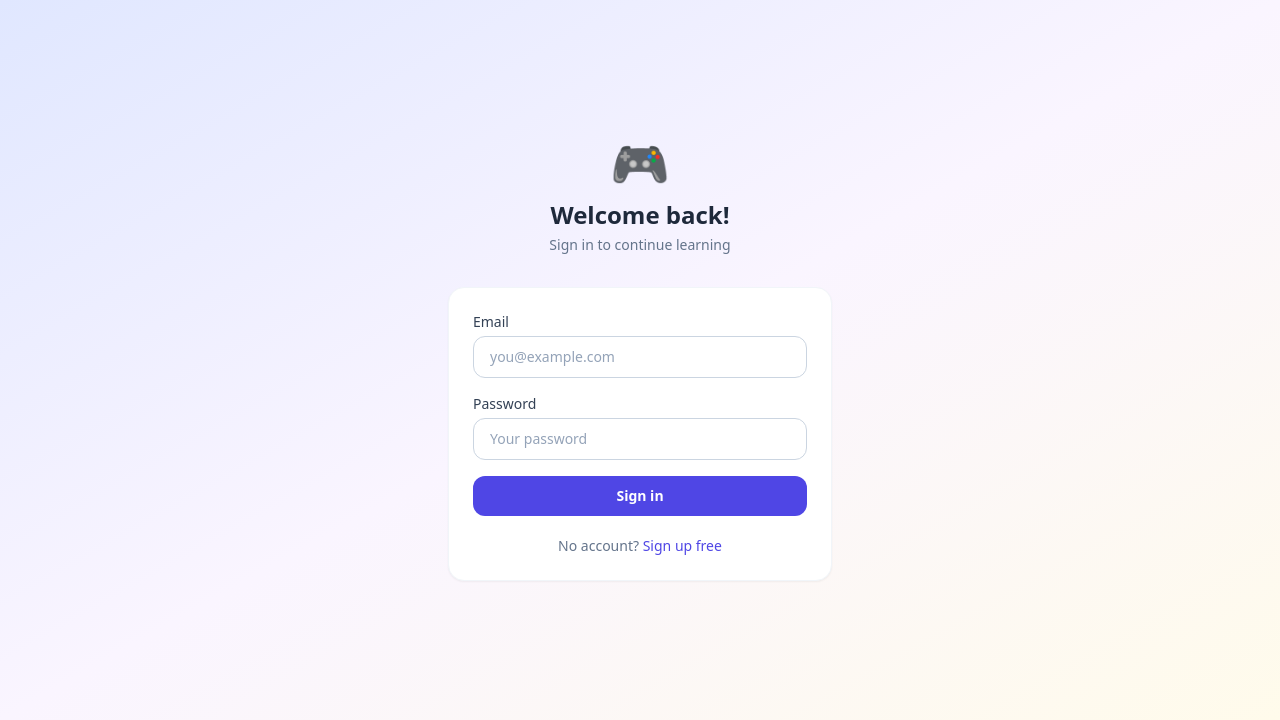
Test case: LoginPage › shows error on failed login
Type "x@x.com" into the field labelled "Email" at coordinates (640, 357), box x1=473 y1=336 x2=807 y2=378
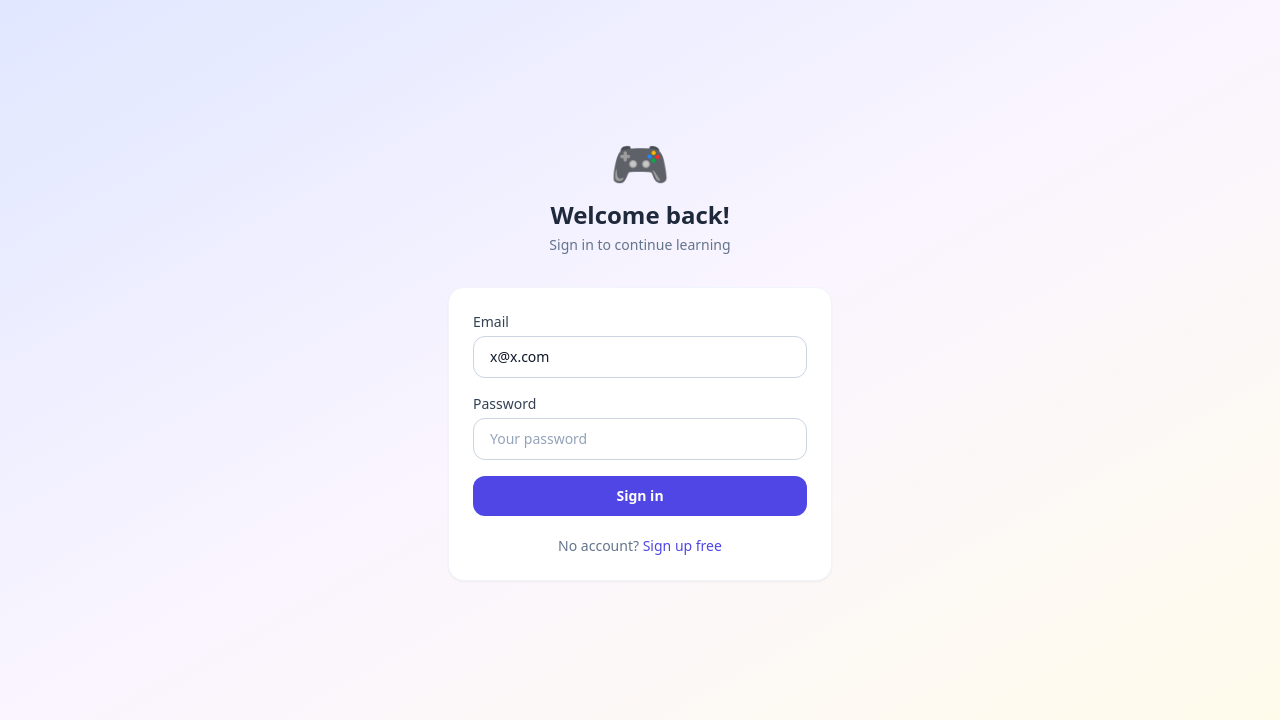
Type "wrong" into the password field labelled "Password" at coordinates (640, 439), box x1=473 y1=418 x2=807 y2=460
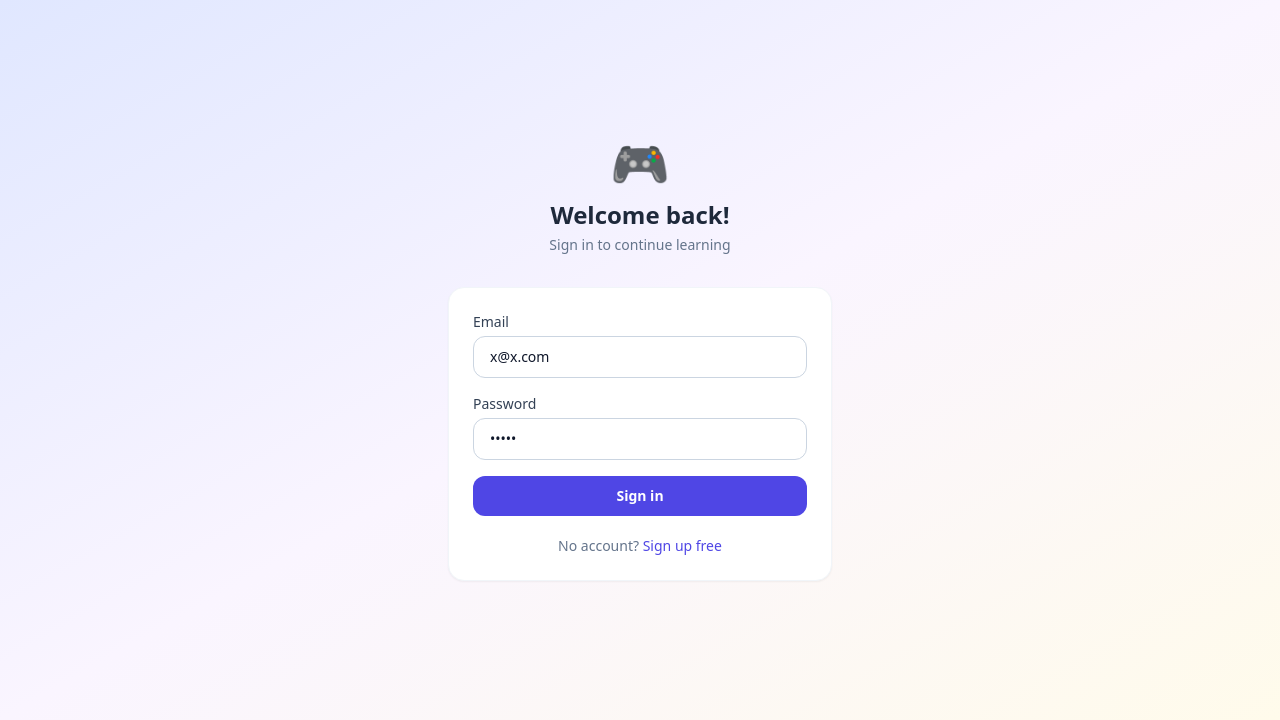
Submit the form from the button "Sign in", box x1=473 y1=476 x2=807 y2=516
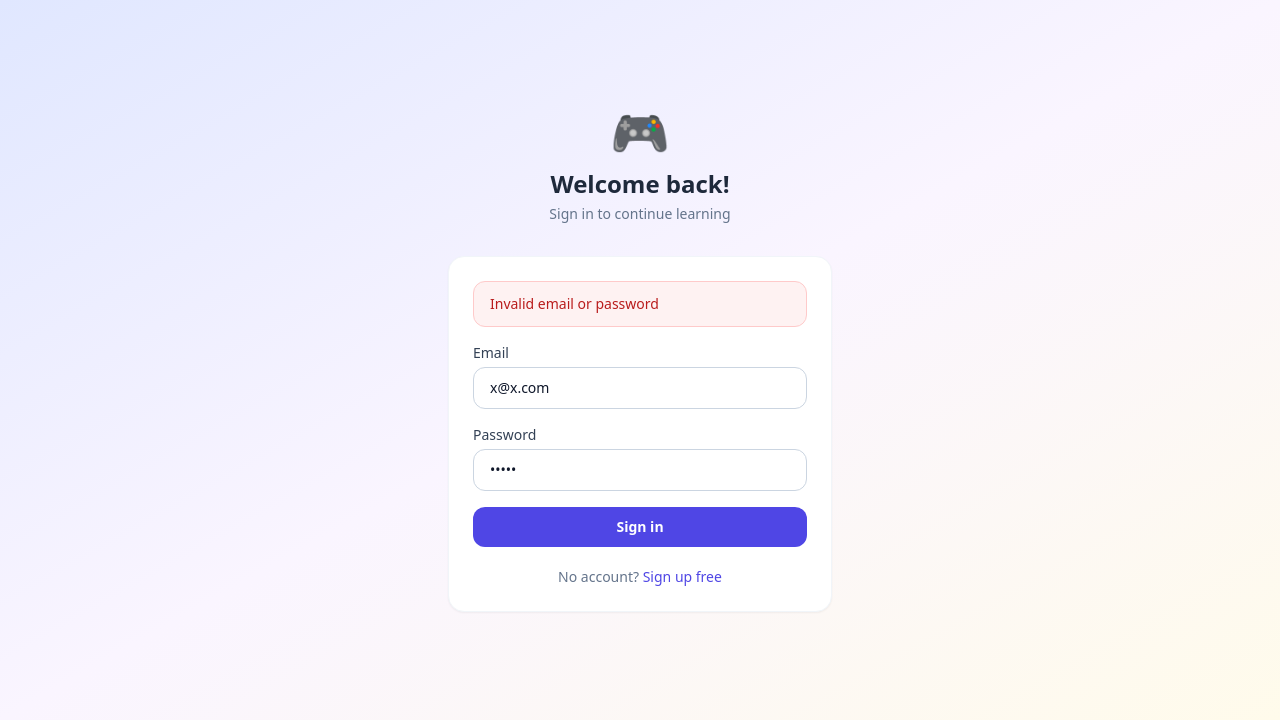
Expected: the text "Invalid email or password" is shown, x1=473 y1=281 x2=807 y2=327
